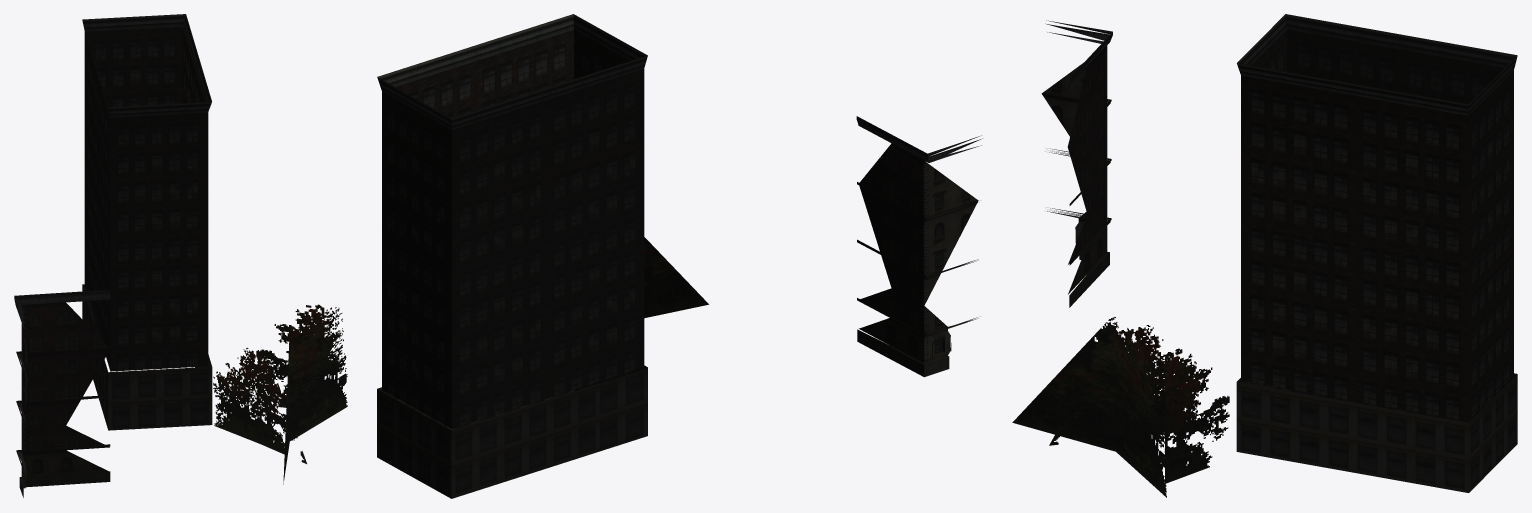
The model's file is cell_1_-4.gltf.
3 views of the same model, side by side, from view 1: azimuth 30°, elevation 25°; view 2: azimuth 150°, elevation 25°; view 3: azimuth 270°, elevation 25° (orthographic). The views are drawn at different scales.
Parts seen in each view (by area): view 1: cell_1_-4; view 2: cell_1_-4; view 3: cell_1_-4.
Boxes of the visible parts, bbox=[...] form: cell_1_-4: bbox=[14, 14, 347, 497]; cell_1_-4: bbox=[377, 14, 982, 498]; cell_1_-4: bbox=[1012, 14, 1517, 497].
Size of the model in its own units: 79.99 by 65.62 by 77.3.
Materials: 11 (11 with a texture image).
